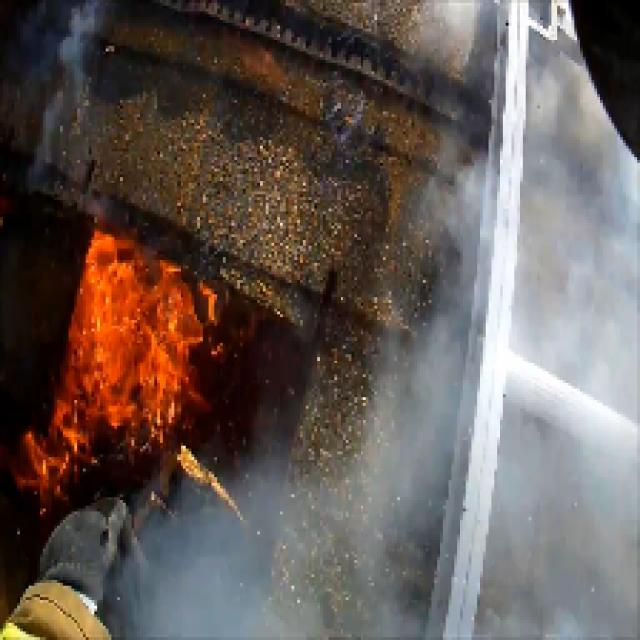fire: (68, 231, 217, 448)
smoke: (410, 81, 640, 640), (146, 503, 403, 640)
